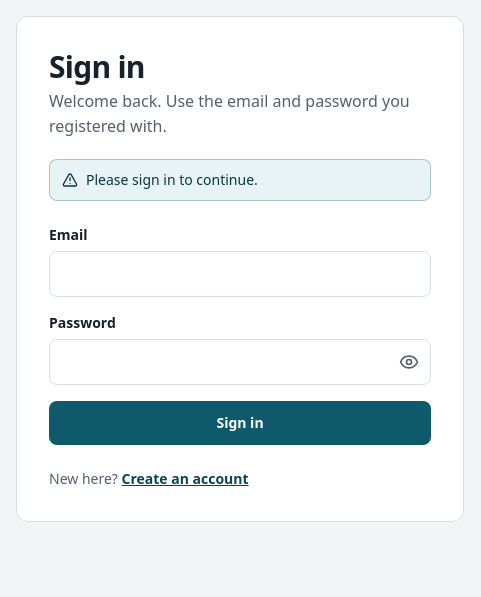
Test: Login page › shows the server error for bad credentials
In the field labelled "Email": (240, 274) x1=49 y1=251 x2=431 y2=297, type "a@b.co"
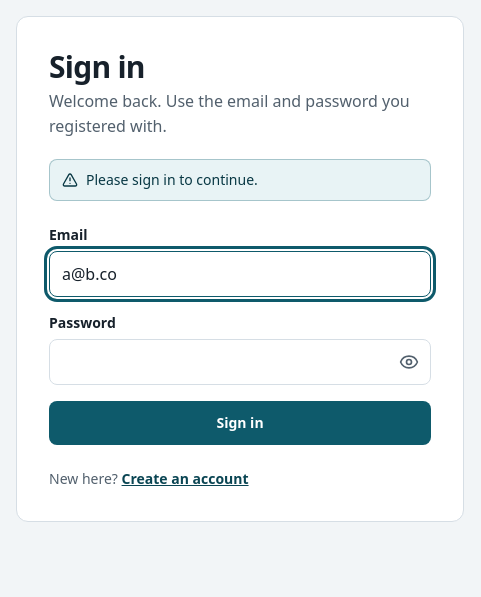
In the password field labelled "Password": (240, 362) x1=49 y1=339 x2=431 y2=385, type "wrongpass"
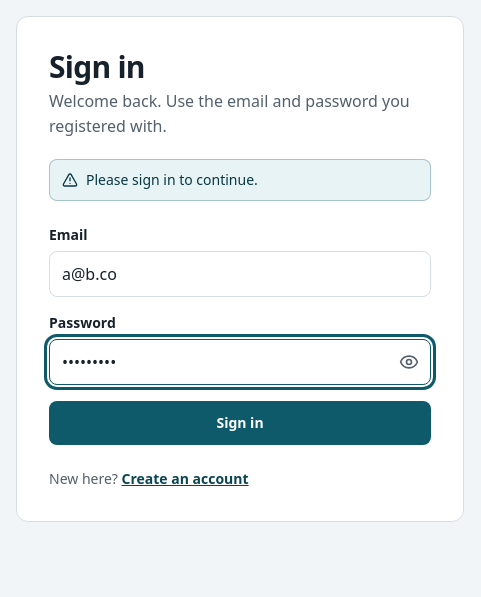
Click the button "Sign in": (240, 423) x1=49 y1=401 x2=431 y2=445
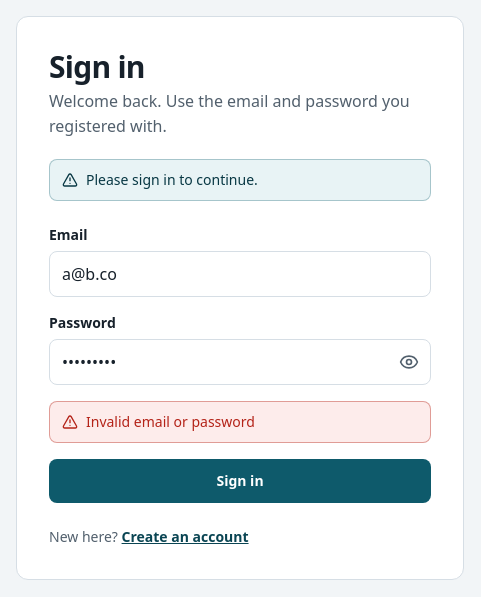
Expected: the message "Invalid email or password" is shown, x1=49 y1=401 x2=431 y2=443
